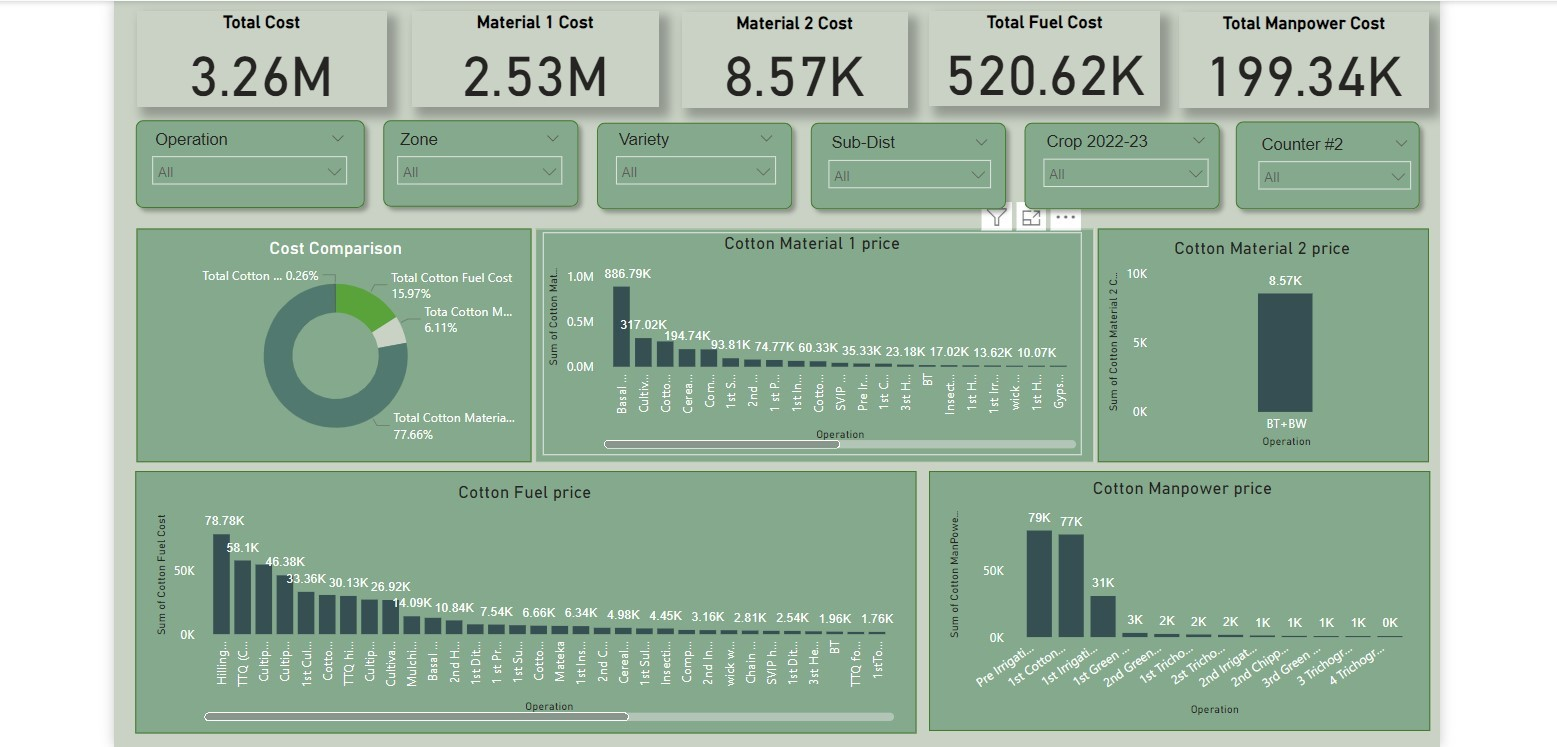

This screenshot's page, from the dashboard's own definition file:
{"tool":"powerbi","page":{"name":"Cotton","canvas":[1280,720],"ordinal":1},"visuals":[{"type":"card","title":"Total Fuel Cost","fields":{"Values":["CottonCosting Fuel Cost.Total Cotton Fuel Cost"]},"box":[786.6,9.7,223.2,91.7],"z":0},{"type":"card","title":"Total Manpower Cost","fields":{"Values":["CottonCosting Manpower Cost.Tota Cotton ManPower Cost"]},"box":[1027.9,10.9,241.3,91.7],"z":1000},{"type":"card","title":"Material 1 Cost","fields":{"Values":["CottonCosting Mate 1.Total Cotton Material 1 Cost"]},"box":[287.1,9.7,238.9,92.9],"z":2000},{"type":"card","title":"Material 2 Cost","fields":{"Values":["CottonCosting Mate 2.Total Cotton Material 2 cost"]},"box":[547.7,10.9,218.4,91.7],"z":3000},{"type":"card","title":"Total Cost","fields":{"Values":["CottonCosting.Total Cotton Cost"]},"box":[21.7,9.7,241.3,92.9],"z":4000},{"type":"shape","box":[12.1,106.2,238.9,102.5],"z":4000,"group":"g6"},{"type":"group","id":"g1","title":"Group 2","box":[21.7,219.6,381.2,225.6],"z":5000},{"type":"group","id":"g2","title":"Group 1","box":[406.6,219.6,539.3,225.6],"z":6000},{"type":"group","id":"g3","title":"Group 1","box":[949.5,219.6,319.7,225.6],"z":7000},{"type":"group","id":"g4","title":"Group 1","box":[20.5,453.6,754,253.4],"z":8000},{"type":"group","id":"g5","title":"Group 1","box":[786.6,453.6,483.8,250.9],"z":9000},{"type":"group","id":"g6","title":"Group 5","box":[12.1,106.2,238.9,102.5],"z":10000},{"type":"group","id":"g7","title":"Group 6","box":[250.9,106.2,206.3,101.3],"z":11000},{"type":"group","id":"g8","title":"Group 7","box":[457.2,108.6,206.3,101.3],"z":12000},{"type":"group","id":"g9","title":"Group 8","box":[663.5,108.6,206.3,101.3],"z":13000},{"type":"slicer","fields":{"Values":["Cotton_UNpv_SE.Operation"]},"box":[26.6,119.5,208.7,71.2],"z":13000,"group":"g6"},{"type":"shape","box":[250.9,106.2,206.3,101.3],"z":14000,"group":"g7"},{"type":"group","id":"g10","title":"Group 9","box":[869.8,108.6,206.3,101.3],"z":14000},{"type":"group","id":"g11","title":"Group 10","box":[1073.7,107.4,195.4,102.5],"z":15000},{"type":"slicer","fields":{"Values":["Cotton_UNpv_SE.Zone"]},"box":[263,119.5,179.8,71.2],"z":15000,"group":"g7"},{"type":"shape","box":[457.2,108.6,206.3,101.3],"z":16000,"group":"g8"},{"type":"slicer","fields":{"Values":["Cotton_UNpv_SE.Variety"]},"box":[474.1,119.5,174.9,70],"z":17000,"group":"g8"},{"type":"shape","box":[21.7,219.6,381.2,225.6],"z":17000,"group":"g13"},{"type":"shape","box":[406.6,219.6,539.3,225.6],"z":17000,"group":"g2"},{"type":"shape","box":[949.5,219.6,319.7,225.6],"z":17000,"group":"g3"},{"type":"shape","box":[20.5,453.6,754,253.4],"z":17000,"group":"g4"},{"type":"shape","box":[786.6,453.6,483.8,250.9],"z":17000,"group":"g5"},{"type":"clusteredColumnChart","title":"Cotton Material 1 price","fields":{"Category":["CottonCosting Mate 1.Operation"],"Y":["Sum(CottonCosting Mate 1.Cotton Material 1 Cost)"]},"box":[414.4,223.6,520,213.8],"z":17500,"group":"g2"},{"type":"clusteredColumnChart","title":"Cotton Material 2 price","fields":{"Category":["CottonCosting Mate 2.Operation"],"Y":["Sum(CottonCosting Mate 2.Cotton Material 2 Cost )"]},"box":[954.6,228.1,307.8,208.6],"z":17500,"group":"g3"},{"type":"clusteredColumnChart","title":"Cotton Manpower  price","fields":{"Category":["CottonCosting Manpower Cost.Operation"],"Y":["Sum(CottonCosting Manpower Cost.Cotton ManPower Cost)"]},"box":[800.5,460.1,460.4,235.3],"z":17500,"group":"g5"},{"type":"clusteredColumnChart","title":"Cotton Fuel price","fields":{"Category":["CottonCosting Fuel Cost.Operation"],"Y":["Sum(CottonCosting Fuel Cost.Cotton Fuel Cost)"]},"box":[34.9,463.4,723.1,236.8],"z":17500,"group":"g4"},{"type":"shape","box":[663.5,108.6,206.3,101.3],"z":18000,"group":"g9"},{"type":"donutChart","title":"Cost Comparison","fields":{"Y":["CottonCosting Fuel Cost.Total Cotton Fuel Cost","CottonCosting Manpower Cost.Tota Cotton ManPower Cost","CottonCosting Mate 1.Total Cotton Material 1 Cost","CottonCosting Mate 2.Total Cotton Material 2 cost"]},"box":[33.2,227.6,360.7,210],"z":18000,"group":"g13"},{"type":"group","id":"g12","title":"Group 3","box":[21.7,219.6,381.2,225.6],"z":18002,"group":"g1"},{"type":"group","id":"g13","title":"Group 4","box":[21.7,219.6,381.2,225.6],"z":18002,"group":"g12"},{"type":"slicer","fields":{"Values":["Cotton_UNpv_SE.Sub-Dist"]},"box":[679.2,123.1,177.3,67.6],"z":19000,"group":"g9"},{"type":"shape","box":[869.8,108.6,206.3,101.3],"z":20000,"group":"g10"},{"type":"slicer","fields":{"Values":["Cotton_UNpv_SE.Crop  2022-23"]},"box":[886.7,121.9,179.8,68.8],"z":21000,"group":"g10"},{"type":"shape","box":[1073.7,107.4,195.4,102.5],"z":21250,"group":"g11"},{"type":"slicer","fields":{"Values":["Cotton_UNpv_SE.Counter #2"]},"box":[1094.2,124.3,167.7,61.5],"z":21500,"group":"g11"}]}

Visuals, with their boxes on the page's 1280x720 design canvas (x1, y1, x2, y2). These are canvas units, not pixel positions in the 1557x747 screenshot, which may show the page scaled, cropped or inside an application window:
"Total Fuel Cost" card: x1=787 y1=10 x2=1010 y2=101
"Total Manpower Cost" card: x1=1028 y1=11 x2=1269 y2=103
"Material 1 Cost" card: x1=287 y1=10 x2=526 y2=103
"Material 2 Cost" card: x1=548 y1=11 x2=766 y2=103
"Total Cost" card: x1=22 y1=10 x2=263 y2=103
shape: x1=12 y1=106 x2=251 y2=209
"Group 2" group: x1=22 y1=220 x2=403 y2=445
"Group 1" group: x1=407 y1=220 x2=946 y2=445
"Group 1" group: x1=950 y1=220 x2=1269 y2=445
"Group 1" group: x1=20 y1=454 x2=774 y2=707
"Group 1" group: x1=787 y1=454 x2=1270 y2=704
"Group 5" group: x1=12 y1=106 x2=251 y2=209
"Group 6" group: x1=251 y1=106 x2=457 y2=208
"Group 7" group: x1=457 y1=109 x2=664 y2=210
"Group 8" group: x1=664 y1=109 x2=870 y2=210
slicer - Cotton_UNpv_SE.Operation: x1=27 y1=120 x2=235 y2=191
shape: x1=251 y1=106 x2=457 y2=208
"Group 9" group: x1=870 y1=109 x2=1076 y2=210
"Group 10" group: x1=1074 y1=107 x2=1269 y2=210
slicer - Cotton_UNpv_SE.Zone: x1=263 y1=120 x2=443 y2=191
shape: x1=457 y1=109 x2=664 y2=210
slicer - Cotton_UNpv_SE.Variety: x1=474 y1=120 x2=649 y2=190
shape: x1=22 y1=220 x2=403 y2=445
shape: x1=407 y1=220 x2=946 y2=445
shape: x1=950 y1=220 x2=1269 y2=445
shape: x1=20 y1=454 x2=774 y2=707
shape: x1=787 y1=454 x2=1270 y2=704
"Cotton Material 1 price" clusteredColumnChart: x1=414 y1=224 x2=934 y2=437
"Cotton Material 2 price" clusteredColumnChart: x1=955 y1=228 x2=1262 y2=437
"Cotton Manpower  price" clusteredColumnChart: x1=800 y1=460 x2=1261 y2=695
"Cotton Fuel price" clusteredColumnChart: x1=35 y1=463 x2=758 y2=700
shape: x1=664 y1=109 x2=870 y2=210
"Cost Comparison" donutChart: x1=33 y1=228 x2=394 y2=438
"Group 3" group: x1=22 y1=220 x2=403 y2=445
"Group 4" group: x1=22 y1=220 x2=403 y2=445
slicer - Cotton_UNpv_SE.Sub-Dist: x1=679 y1=123 x2=856 y2=191
shape: x1=870 y1=109 x2=1076 y2=210
slicer - Cotton_UNpv_SE.Crop  2022-23: x1=887 y1=122 x2=1066 y2=191
shape: x1=1074 y1=107 x2=1269 y2=210
slicer - Cotton_UNpv_SE.Counter #2: x1=1094 y1=124 x2=1262 y2=186
